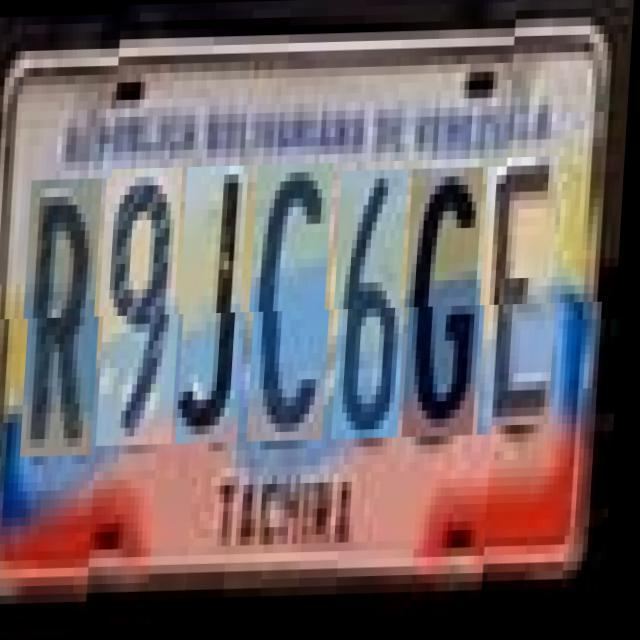6: (337, 172, 415, 442)
9: (102, 168, 190, 448)
C: (252, 165, 340, 444)
E: (483, 168, 566, 438)
G: (408, 170, 490, 440)
J: (182, 167, 256, 445)
R: (26, 170, 110, 449)
